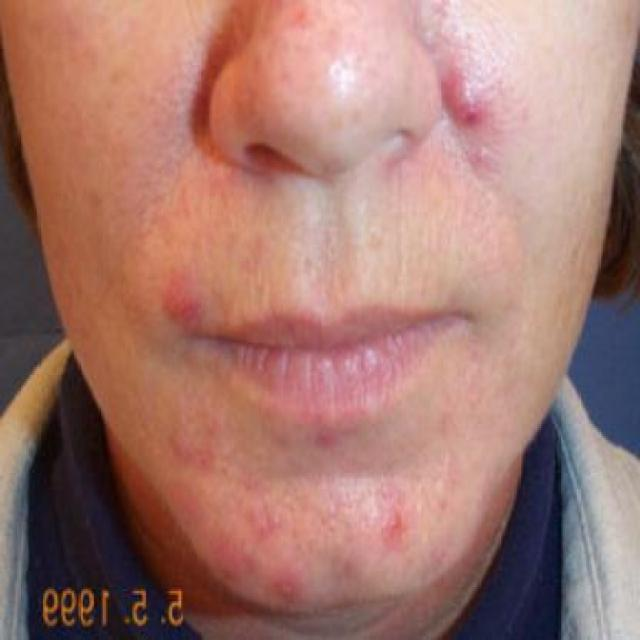nodules: (250, 534, 324, 618), (163, 267, 219, 344), (438, 65, 494, 139)
papules: (380, 502, 414, 546)
